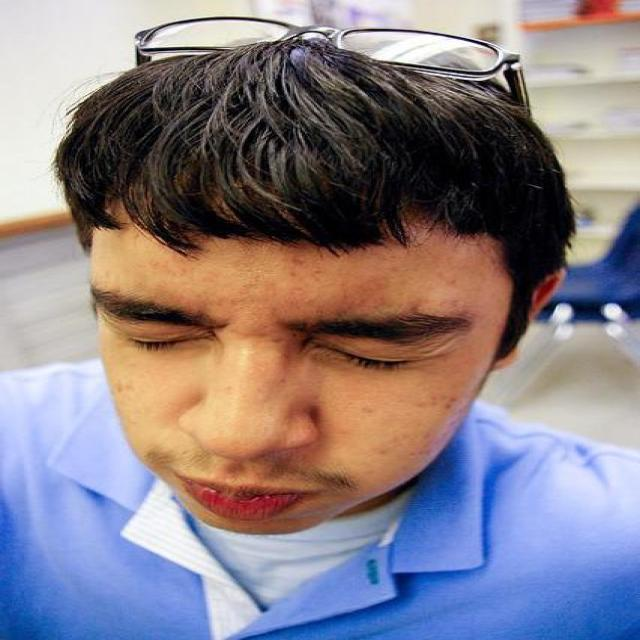no-glass: (110, 322, 434, 369)
